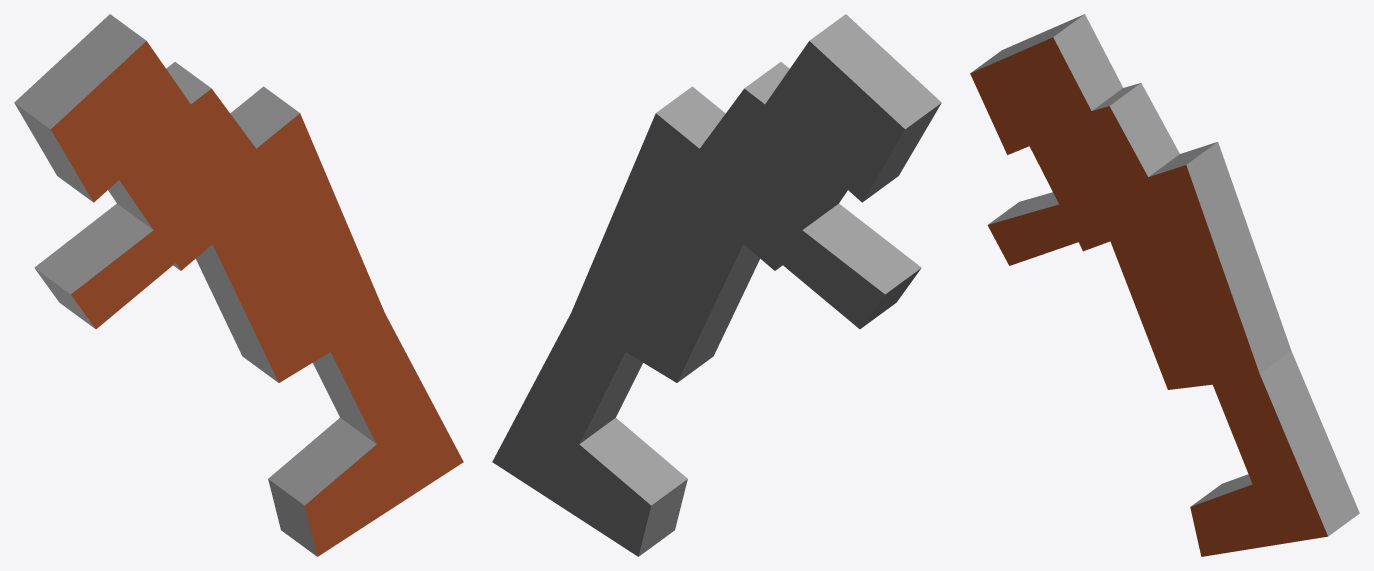
Rendered from construction_6789_assumed_A_Casa_h6m.obj.
3 renders of one model, left to right at view 1: azimuth 30°, elevation 25°; view 2: azimuth 150°, elevation 25°; view 3: azimuth 330°, elevation 25°, orthographic. The views are drawn at different scales.
Parts seen in each view (by area): view 1: construction_6789_assumed_A_Casa; view 2: construction_6789_assumed_A_Casa; view 3: construction_6789_assumed_A_Casa.
Part boxes in pixels (left/top/right/bottom): construction_6789_assumed_A_Casa: left=14, top=14, right=463, bottom=556; construction_6789_assumed_A_Casa: left=492, top=14, right=941, bottom=556; construction_6789_assumed_A_Casa: left=970, top=14, right=1359, bottom=556.
Bounding box in the file's own units: 39.1 × 50.45 × 6.
